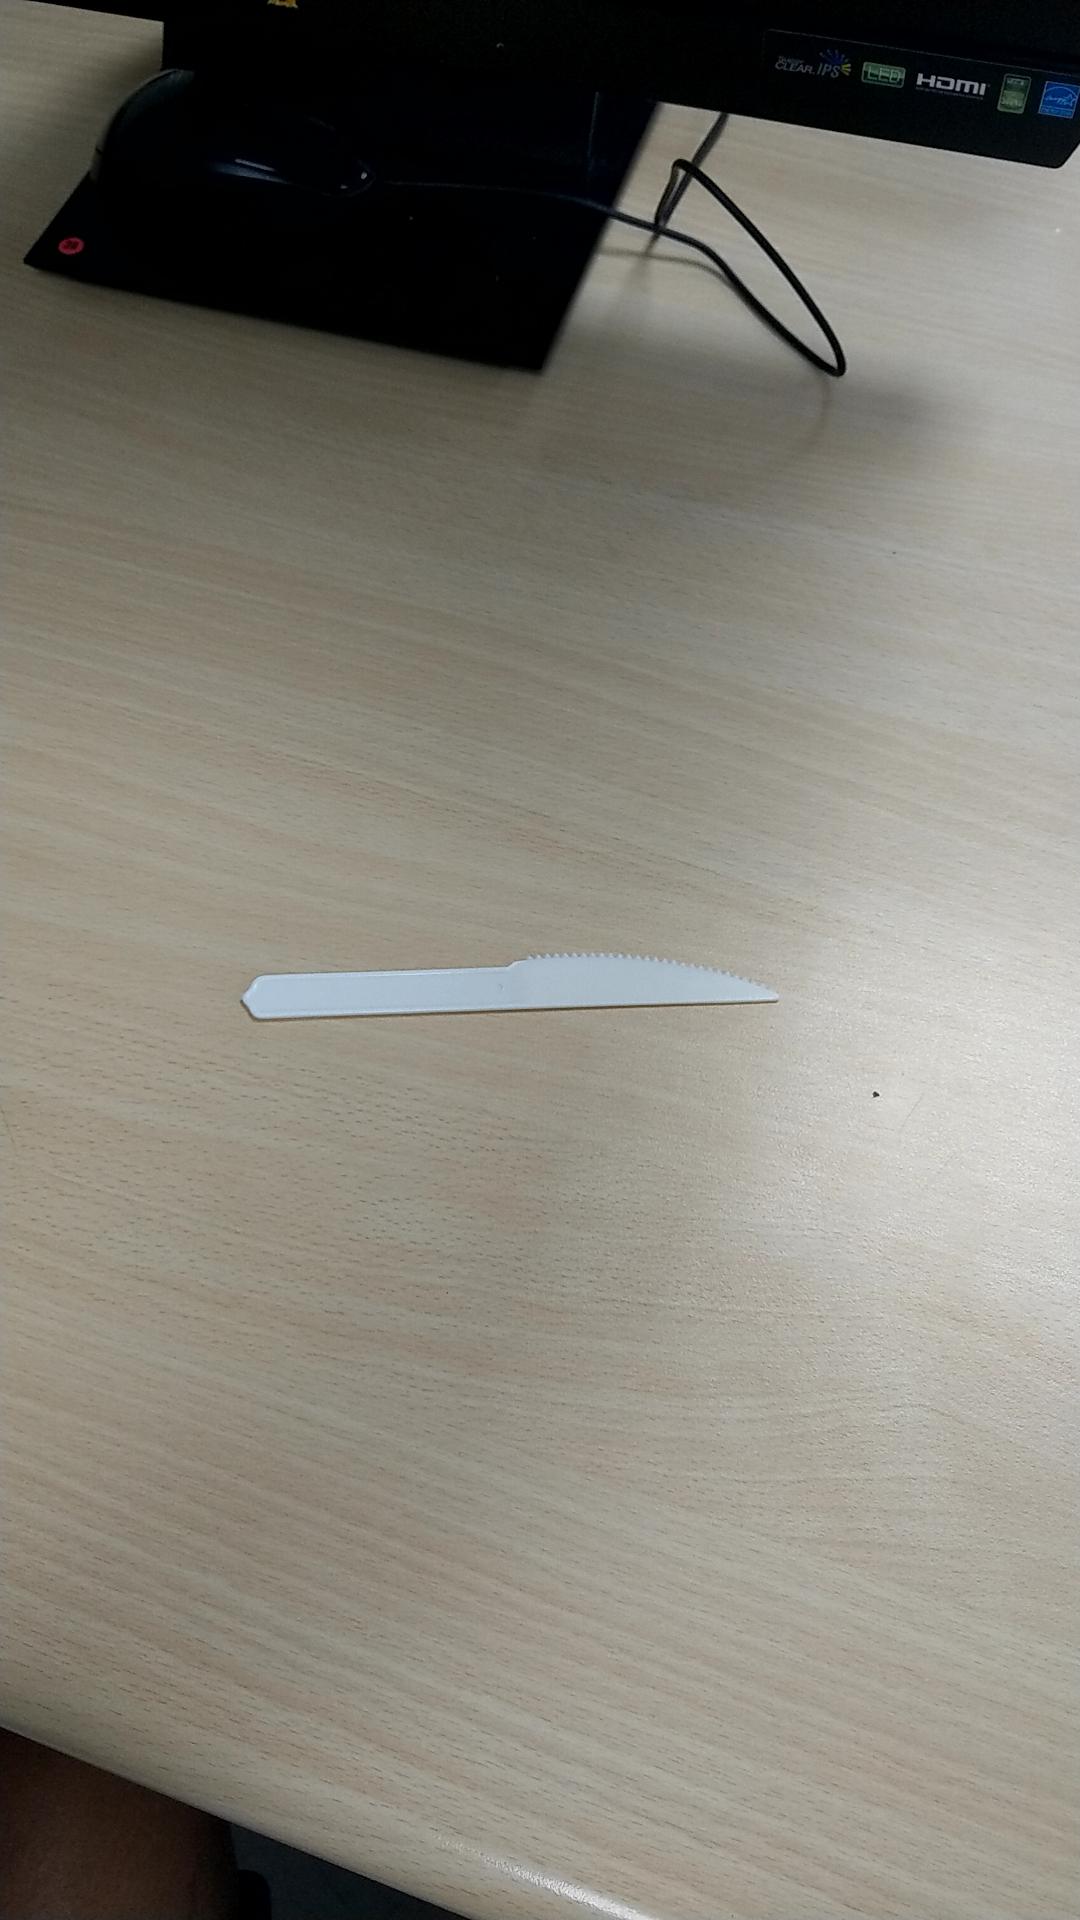knife: (208, 936, 791, 1043)
